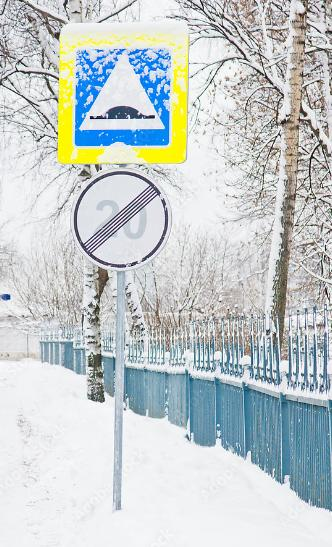obstructed_road_sign: (57, 21, 188, 164)
road_sign: (72, 169, 170, 270)
